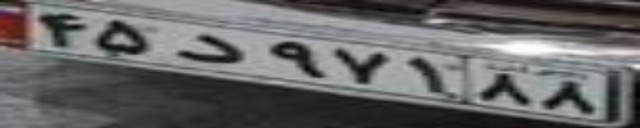1: (408, 55, 442, 93)
4: (38, 12, 84, 48)
5: (95, 18, 148, 55)
7: (332, 46, 389, 84)
8: (477, 70, 534, 106), (539, 78, 596, 114)
9: (267, 40, 324, 79)
dal: (172, 33, 242, 63)
